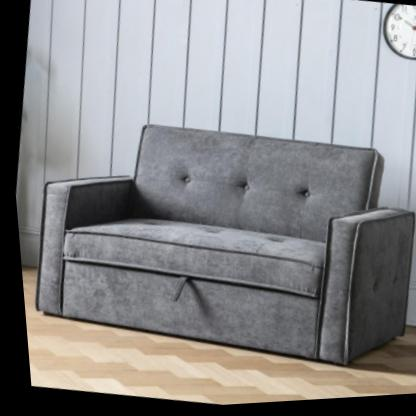Sofa: (9, 97, 416, 393)
